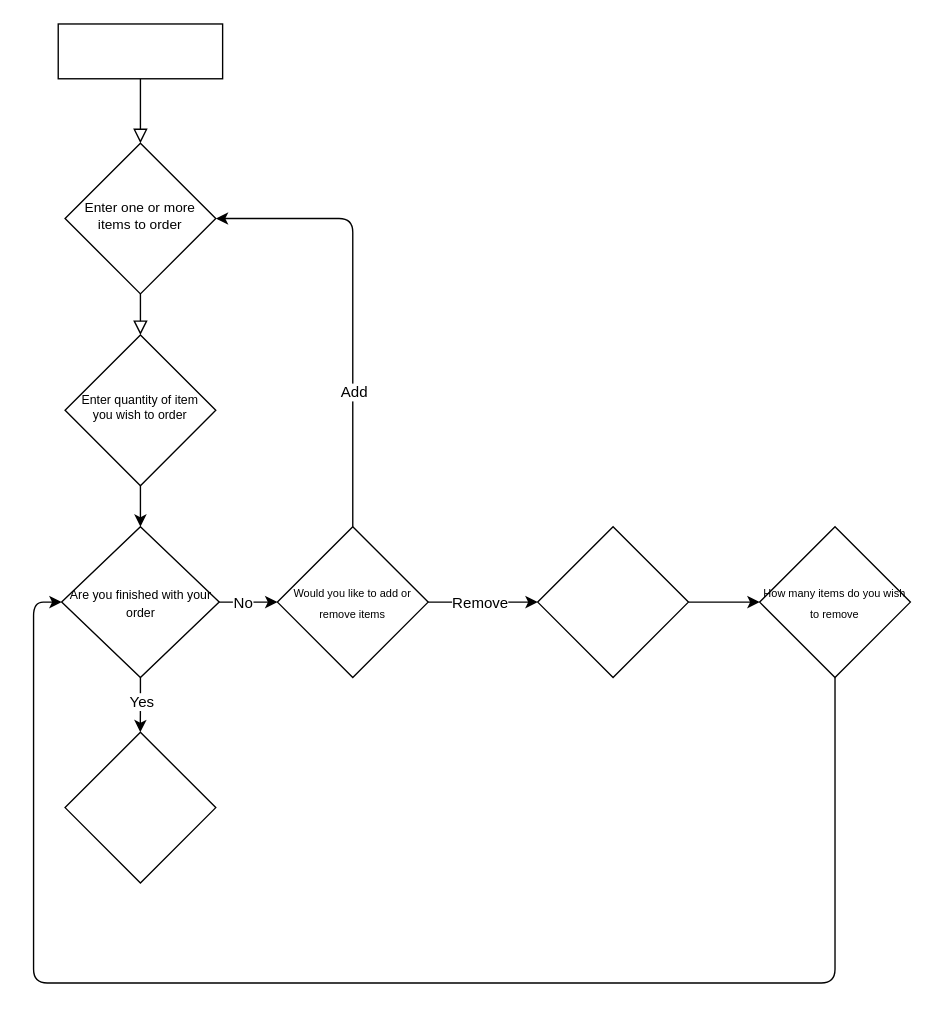
This 934x1018 diagram has some shape labels left out. Each missing label, with the box of its shape:
Enter name: (57, 23, 223, 79)
Please pay amount on screen: (64, 731, 216, 883)
Select which item(s) you'd like to remove: (536, 525, 688, 677)
